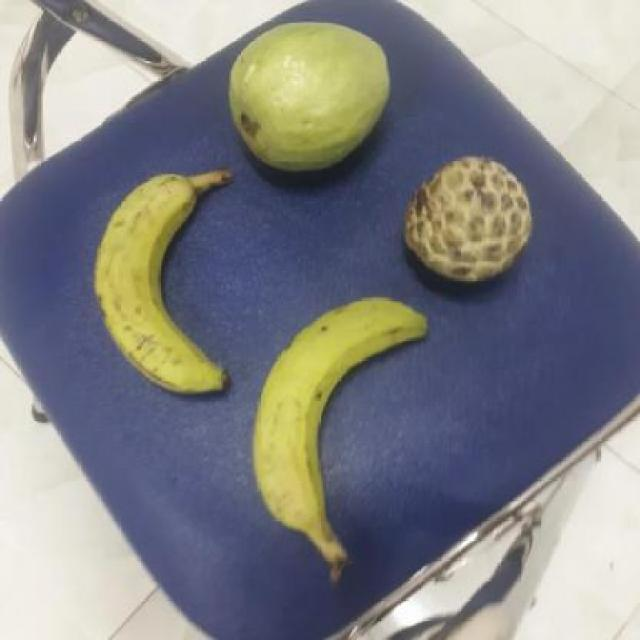banana: (255, 298, 440, 540), (93, 176, 238, 390)
guava: (227, 12, 395, 176)
sugar apple: (406, 156, 542, 286)
